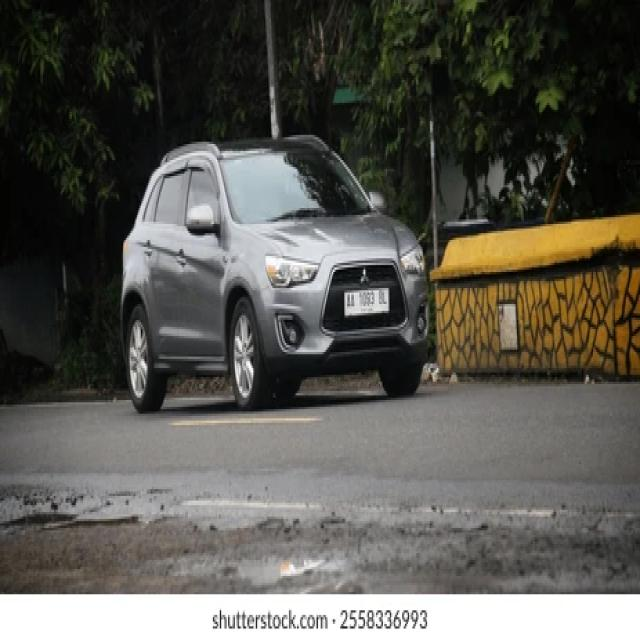mitsubishi: (360, 268, 372, 286)
